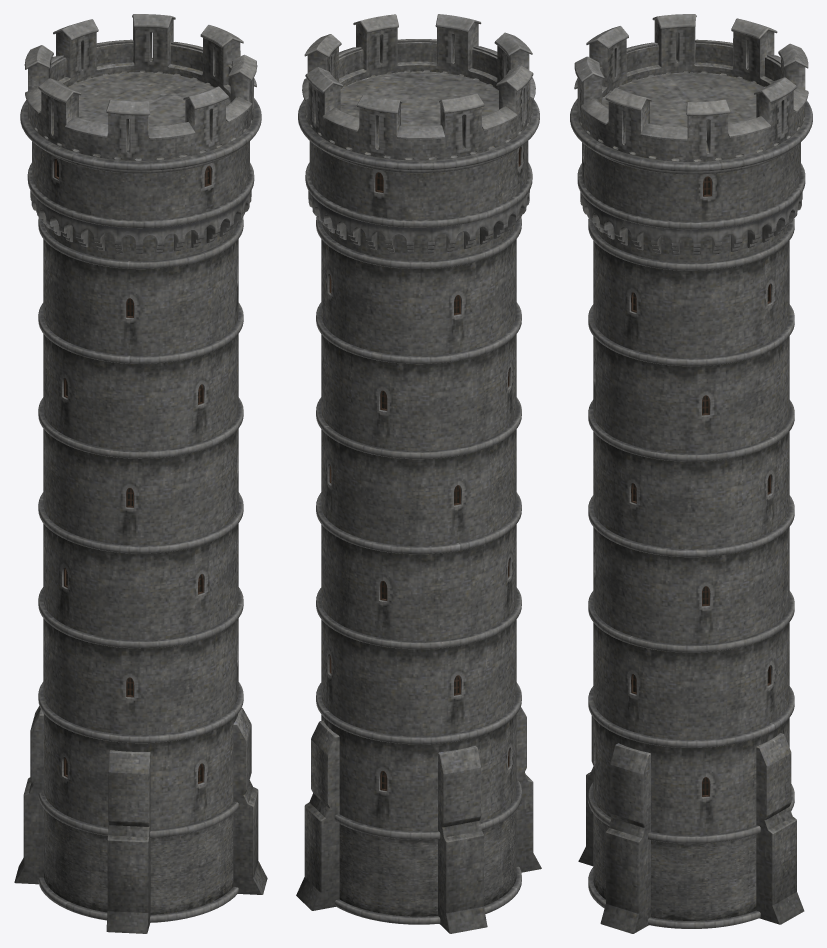
The model's file is Castle_Tower_Round_F2.fbx.
3 views of the same model, side by side, from view 1: azimuth 30°, elevation 25°; view 2: azimuth 150°, elevation 25°; view 3: azimuth 270°, elevation 25° (orthographic).
Visible parts, largest first — view 1: Castle_Tower_Round_F.002; view 2: Castle_Tower_Round_F.002; view 3: Castle_Tower_Round_F.002.
Part boxes in pixels (x1=…): Castle_Tower_Round_F.002: x1=14, y1=14, x2=267, y2=933; Castle_Tower_Round_F.002: x1=296, y1=14, x2=541, y2=933; Castle_Tower_Round_F.002: x1=570, y1=14, x2=812, y2=933.
Size of the model in its own units: 742 by 2791 by 742.
